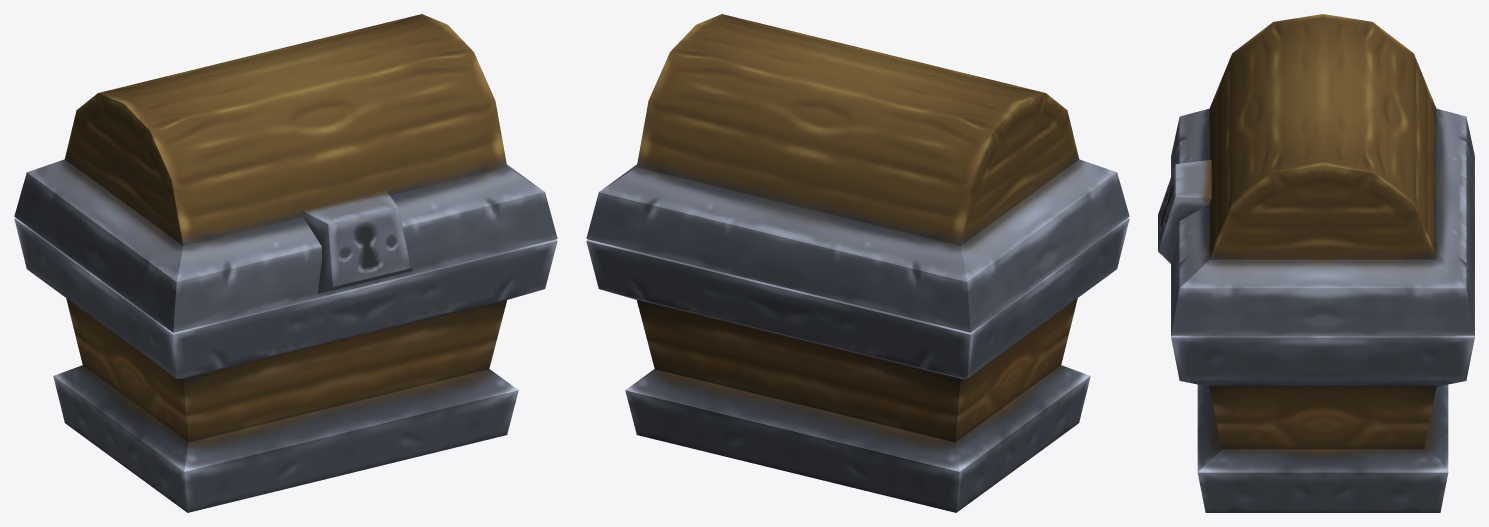
File: chest.fbx
The picture shows the model from 3 angles, left to right: view 1: azimuth 30°, elevation 25°; view 2: azimuth 150°, elevation 25°; view 3: azimuth 270°, elevation 25°; orthographic projection. The views are drawn at different scales.
Parts seen in each view (by area): view 1: Top, Chest; view 2: Top, Chest; view 3: Top, Chest.
Boxes of the visible parts, bbox=[...] form: Top: bbox=[14, 14, 557, 332]; Chest: bbox=[14, 218, 557, 512]; Top: bbox=[586, 14, 1129, 332]; Chest: bbox=[586, 218, 1129, 512]; Top: bbox=[1158, 14, 1474, 335]; Chest: bbox=[1171, 335, 1474, 512].
Size of the model in its own units: 200 by 181 by 149.
1 material, 1 textured.
